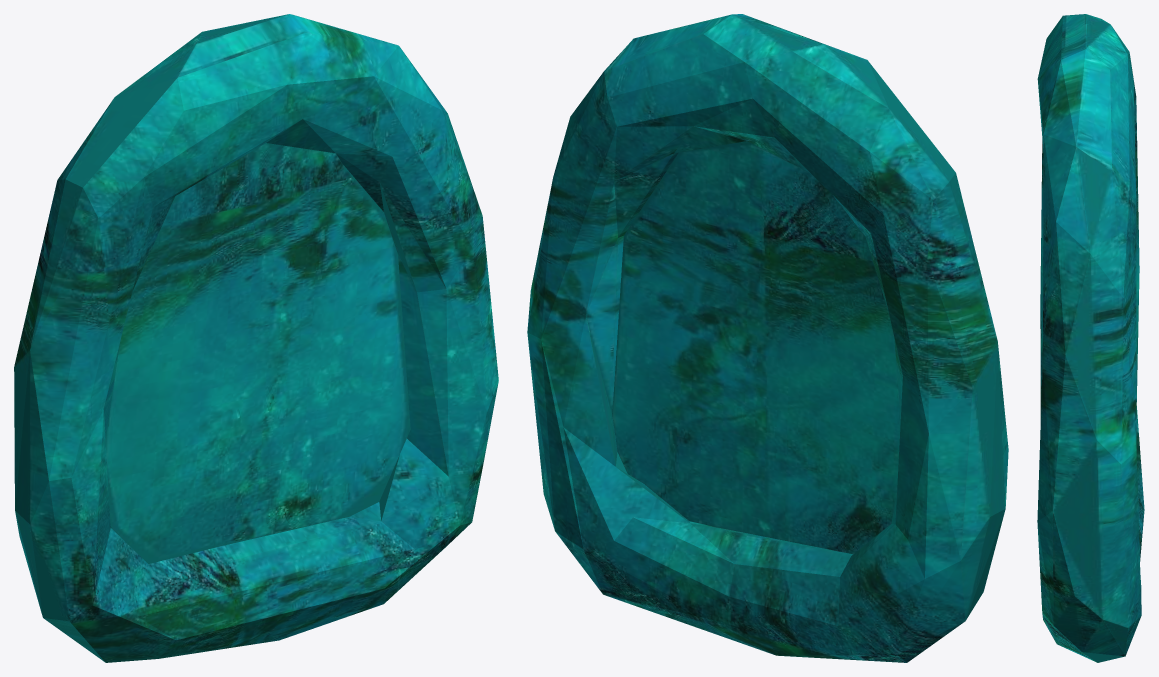
The model's file is portal.glb.
3 renders of one model, left to right at view 1: azimuth 30°, elevation 25°; view 2: azimuth 150°, elevation 25°; view 3: azimuth 270°, elevation 25°, orthographic. The views are drawn at different scales.
Parts seen in each view (by area): view 1: Portal; view 2: Portal; view 3: Portal.
Part boxes in pixels (box(x1,y1,x2,y2)): Portal: box(14, 14, 498, 662); Portal: box(527, 14, 1008, 662); Portal: box(1037, 14, 1144, 662).
Size of the model in its own units: 1.54 by 1.96 by 0.328.
Materials: 1 (1 with a texture image).
